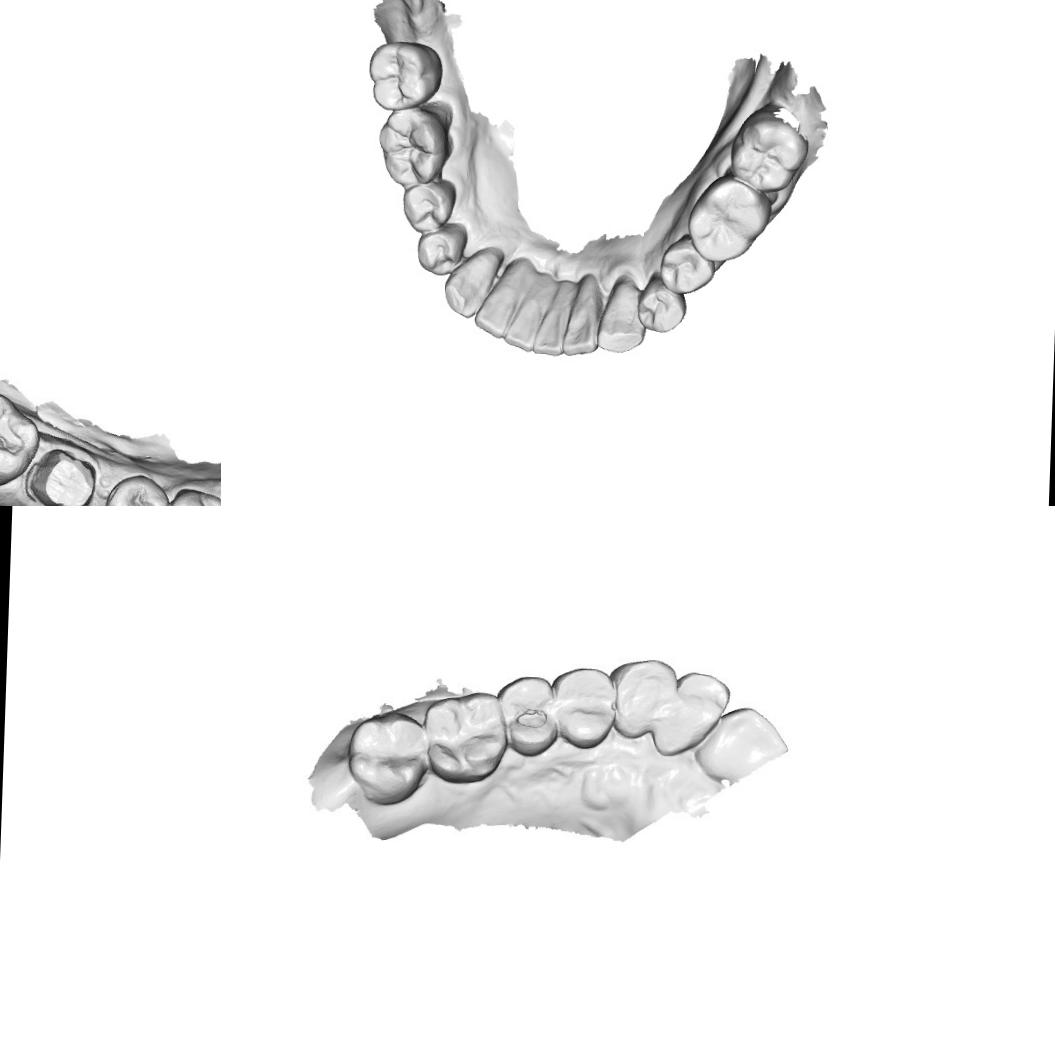canine: (610, 657, 678, 738), (442, 242, 504, 320), (596, 284, 648, 356)
crown: (22, 442, 97, 506)
incisor: (665, 672, 729, 753), (560, 290, 603, 361), (472, 273, 512, 341), (532, 290, 569, 358), (502, 287, 538, 352)
molar: (686, 170, 775, 266), (347, 711, 432, 804), (728, 101, 811, 195), (424, 694, 510, 781), (375, 106, 455, 192), (364, 38, 444, 115), (0, 394, 35, 484)
premolar: (554, 666, 620, 742), (502, 676, 558, 750), (657, 232, 716, 296), (400, 178, 460, 234), (635, 273, 688, 334), (415, 224, 471, 277), (106, 469, 166, 506), (168, 485, 221, 506)
